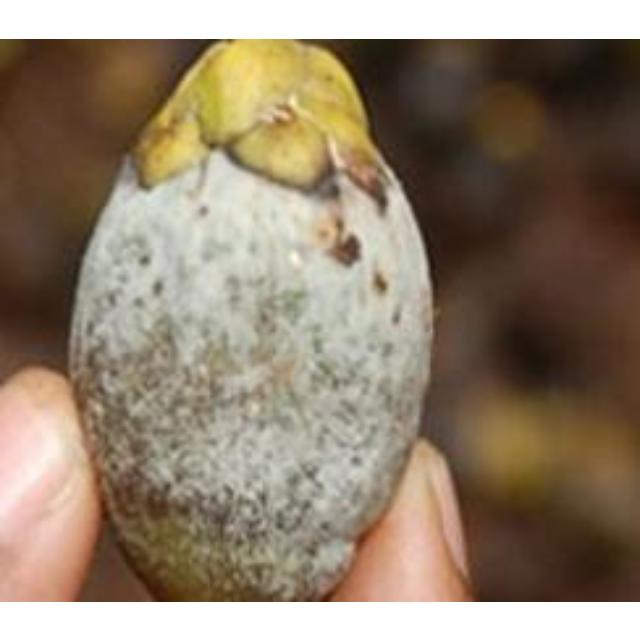damaged: (66, 38, 435, 599)
